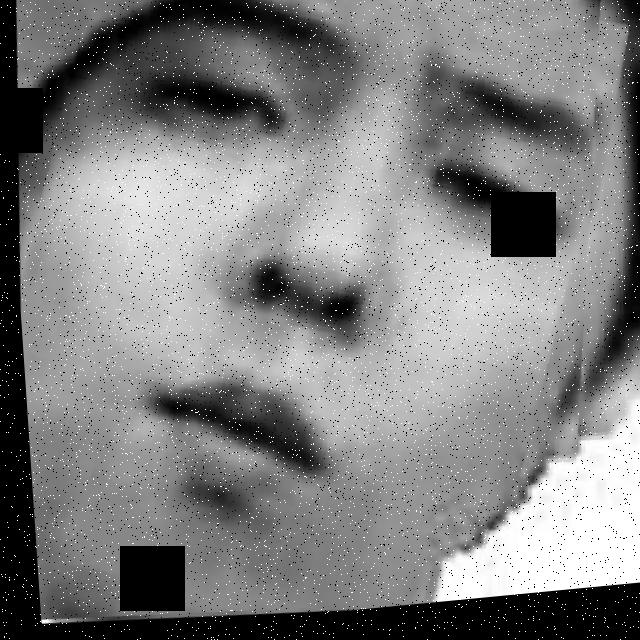anger: (0, 0, 634, 640)
